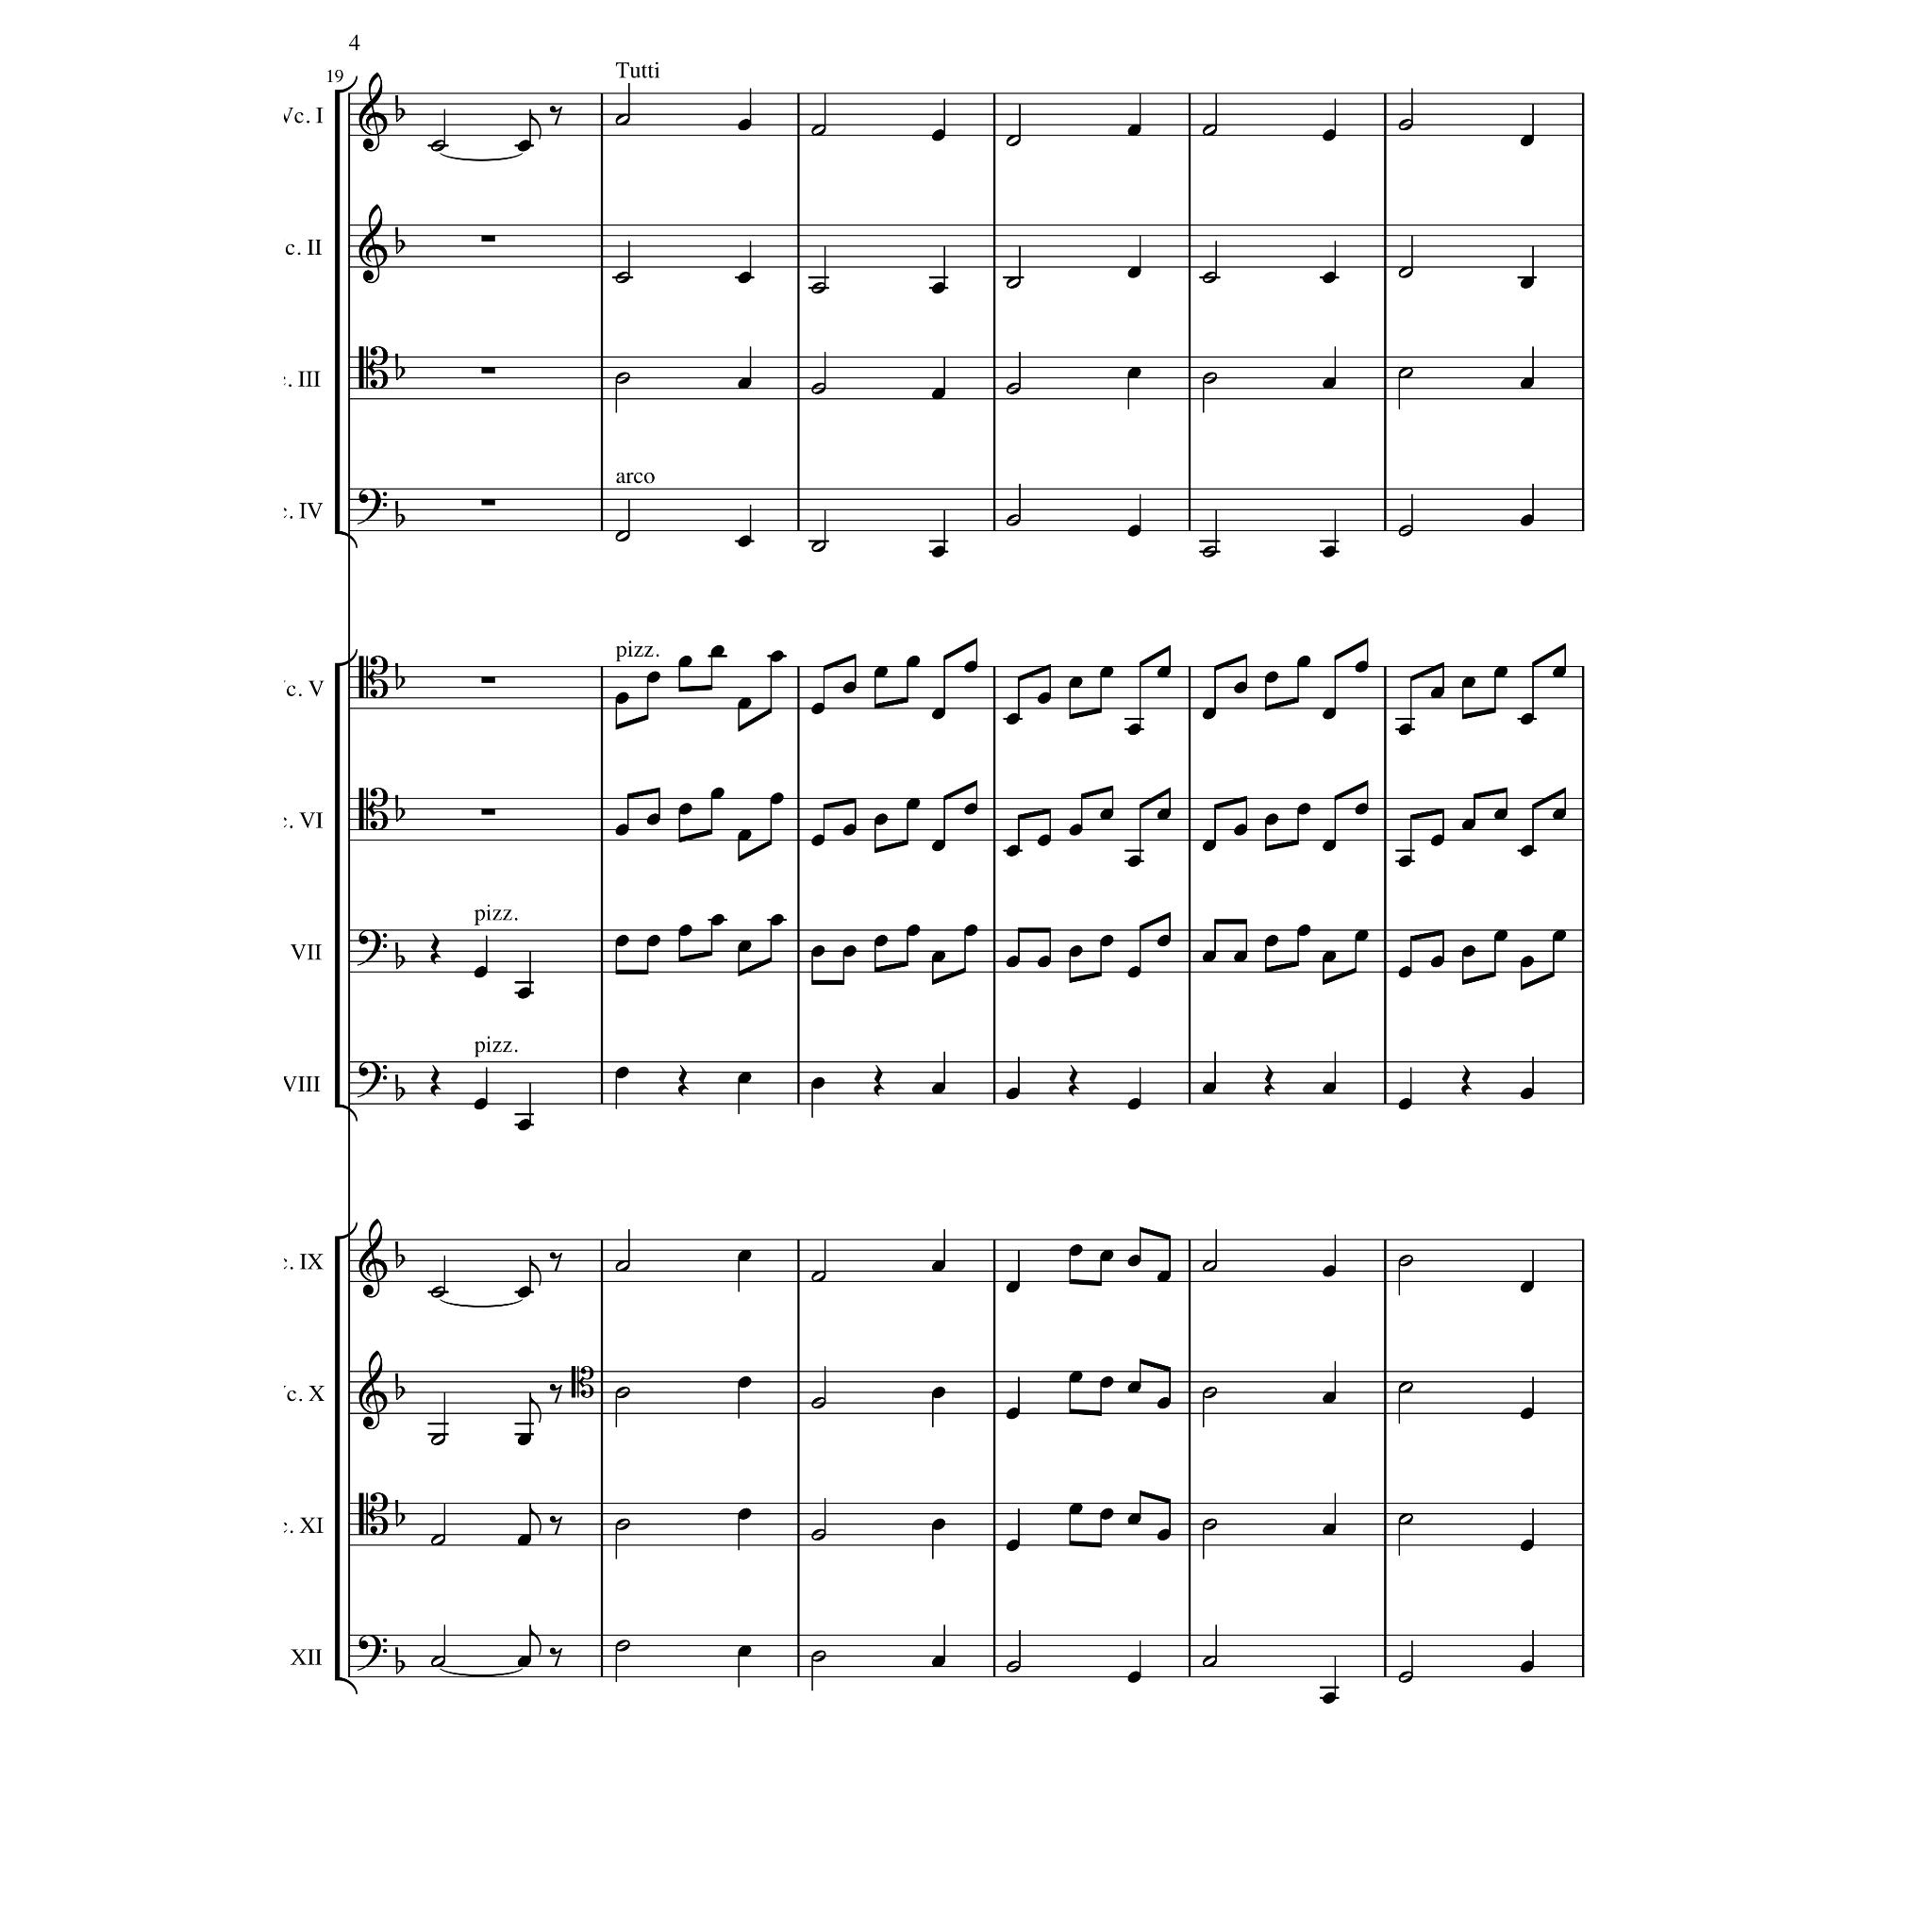fClef: (357, 1062, 387, 1099), (357, 929, 387, 966), (357, 488, 387, 525), (357, 1635, 387, 1672)
flag8thUp: (529, 1624, 541, 1656), (529, 1256, 541, 1288), (529, 1504, 541, 1534), (529, 1394, 541, 1424), (529, 110, 541, 140)
gClef: (357, 1350, 387, 1431), (357, 203, 387, 285), (357, 1219, 387, 1299), (357, 73, 387, 152)
noteheadBlack: (1322, 1391, 1336, 1405), (1099, 807, 1113, 821), (1127, 1513, 1141, 1527), (1069, 676, 1083, 690), (1157, 807, 1171, 821), (1552, 929, 1566, 943), (1552, 807, 1566, 821), (1493, 929, 1507, 943), (1493, 807, 1507, 821), (1520, 276, 1534, 290), (1355, 929, 1369, 943), (1431, 833, 1445, 847), (1461, 676, 1476, 690), (1322, 1523, 1336, 1537), (738, 119, 752, 133), (738, 1644, 752, 1658), (738, 939, 752, 954), (1037, 833, 1051, 847), (517, 1654, 531, 1668), (932, 1654, 947, 1668), (810, 833, 824, 847), (1297, 924, 1311, 936), (1297, 803, 1311, 816), (1297, 656, 1311, 669), (1037, 955, 1051, 968), (1322, 1265, 1336, 1277), (1322, 1083, 1336, 1095), (1322, 950, 1336, 962), (1322, 840, 1336, 853), (1322, 708, 1336, 720), (1322, 545, 1336, 557), (1322, 271, 1336, 283), (1322, 129, 1336, 142), (1265, 936, 1279, 948), (1265, 814, 1279, 826), (1265, 671, 1279, 683), (1233, 950, 1247, 962), (1233, 824, 1247, 837), (1233, 681, 1247, 694), (1099, 1507, 1113, 1520), (1099, 1376, 1113, 1389), (1099, 1249, 1113, 1261), (1099, 936, 1113, 948), (1099, 665, 1113, 678), (1127, 1672, 1141, 1684), (1127, 1382, 1141, 1394), (1127, 1254, 1141, 1267), (1127, 1099, 1141, 1111), (1127, 966, 1141, 978), (1127, 855, 1141, 867), (1127, 724, 1141, 736), (1127, 525, 1141, 538), (1127, 366, 1141, 379), (1127, 267, 1141, 280), (1127, 124, 1141, 136), (1069, 1504, 1083, 1516), (1069, 1371, 1083, 1384), (1069, 824, 1083, 837), (1157, 1529, 1171, 1541), (1157, 1398, 1171, 1410), (1157, 1270, 1171, 1283), (1157, 936, 1171, 948), (1203, 708, 1217, 720), (1203, 1083, 1217, 1095), (1203, 950, 1217, 962), (1203, 840, 1217, 853), (1157, 665, 1171, 678), (1552, 665, 1566, 678), (1493, 665, 1507, 678), (1520, 1661, 1534, 1674), (1520, 1539, 1534, 1552), (1520, 1408, 1534, 1421), (1520, 1281, 1534, 1293), (1520, 1088, 1534, 1100), (1520, 955, 1534, 968), (1520, 844, 1534, 856), (1520, 713, 1534, 725), (1520, 515, 1534, 527), (1520, 134, 1534, 147), (1398, 966, 1412, 978), (1398, 855, 1412, 867), (1398, 724, 1412, 736), (1398, 1099, 1412, 1111), (1355, 803, 1369, 816), (1322, 1691, 1336, 1704), (1431, 955, 1445, 968), (1431, 686, 1445, 699), (614, 1067, 628, 1079), (614, 936, 628, 948), (614, 824, 628, 837), (614, 692, 628, 704), (738, 1507, 752, 1520), (738, 1376, 752, 1389), (738, 1249, 752, 1261), (738, 1072, 752, 1085), (738, 828, 752, 840), (738, 697, 752, 709), (738, 536, 752, 548), (738, 271, 752, 283), (678, 803, 692, 816), (678, 656, 692, 669), (678, 924, 692, 936), (648, 936, 662, 948), (648, 814, 662, 826), (648, 671, 662, 683), (709, 913, 724, 925), (709, 787, 724, 800), (709, 644, 724, 656), (517, 1534, 531, 1546), (517, 1433, 531, 1445), (517, 1286, 531, 1299), (517, 1120, 531, 1132), (517, 987, 531, 1000), (517, 140, 531, 152), (472, 1099, 487, 1111), (472, 966, 487, 978), (964, 924, 978, 936), (964, 803, 978, 816), (932, 950, 947, 962), (932, 840, 947, 853), (932, 708, 947, 720), (932, 545, 947, 557), (932, 387, 947, 400), (932, 283, 947, 295), (932, 129, 947, 142), (932, 1083, 947, 1095), (906, 924, 920, 936), (906, 798, 920, 810), (906, 656, 920, 669), (1005, 713, 1019, 725), (932, 1518, 947, 1530), (932, 1260, 947, 1272), (1037, 692, 1051, 704), (1005, 1539, 1019, 1552), (1005, 1408, 1019, 1421), (1005, 1281, 1019, 1293), (1005, 1088, 1019, 1100), (1005, 955, 1019, 968), (1005, 844, 1019, 856), (770, 793, 784, 805), (770, 651, 784, 663), (770, 913, 784, 925), (810, 1077, 824, 1090), (810, 702, 824, 715), (842, 824, 856, 837), (842, 681, 856, 694), (874, 936, 888, 948), (874, 814, 888, 826), (874, 665, 888, 678), (1322, 379, 1336, 389), (1069, 1246, 1083, 1256), (1069, 947, 1083, 957), (1520, 379, 1534, 389), (1355, 662, 1369, 672), (1461, 947, 1476, 957), (1461, 819, 1476, 830), (738, 379, 752, 389), (964, 662, 978, 672), (932, 1387, 947, 1398), (810, 947, 824, 957), (842, 947, 856, 957)
noteheadHalf: (1398, 119, 1414, 133), (430, 1654, 446, 1668), (1203, 1654, 1217, 1668), (1398, 525, 1414, 538), (1398, 366, 1414, 379), (1398, 267, 1414, 280), (1398, 1672, 1414, 1684), (1398, 1382, 1414, 1394), (1398, 1254, 1414, 1267), (430, 1534, 446, 1546), (430, 1433, 446, 1445), (430, 1286, 446, 1299), (430, 140, 446, 152), (1005, 515, 1021, 527), (1005, 382, 1021, 395), (1005, 276, 1021, 288), (1005, 134, 1021, 147), (1005, 1661, 1021, 1674), (1203, 1518, 1217, 1530), (1203, 1260, 1217, 1272), (1203, 545, 1217, 557), (1203, 372, 1217, 384), (1203, 271, 1217, 283), (1203, 124, 1217, 136), (616, 1640, 630, 1652), (616, 1518, 630, 1530), (616, 1260, 630, 1272), (616, 531, 630, 543), (616, 372, 630, 384), (616, 271, 630, 283), (616, 113, 630, 126), (812, 1651, 826, 1663), (812, 1529, 826, 1541), (812, 1398, 826, 1410), (812, 1270, 826, 1283), (812, 541, 826, 554), (812, 382, 826, 395), (812, 283, 826, 295), (812, 124, 826, 136), (1398, 1514, 1414, 1525), (1203, 1387, 1217, 1398), (616, 1387, 630, 1398)
rest8th: (548, 1647, 563, 1668), (548, 1516, 563, 1537), (548, 1384, 563, 1405), (548, 1253, 563, 1272), (548, 106, 563, 126)
restQuarter: (1263, 1065, 1276, 1097), (430, 1065, 442, 1097), (430, 932, 442, 964), (1069, 1065, 1079, 1097), (1461, 1065, 1472, 1097), (678, 1065, 688, 1097), (874, 1065, 885, 1097)
restWhole: (479, 809, 495, 816), (479, 499, 495, 506), (479, 235, 495, 242), (479, 678, 495, 683), (479, 368, 495, 373)
